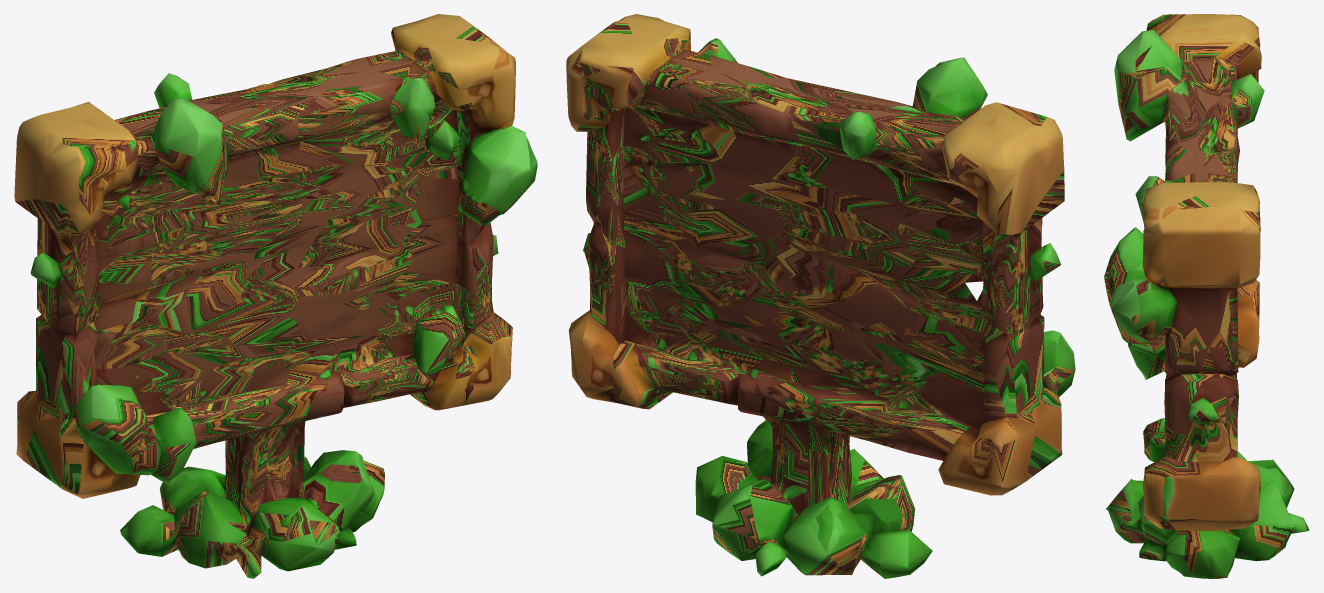
The model's file is emerald_sign_01.glb.
The picture shows the model from 3 angles, left to right: view 1: azimuth 30°, elevation 25°; view 2: azimuth 150°, elevation 25°; view 3: azimuth 270°, elevation 25°; orthographic projection. The views are drawn at different scales.
Parts seen in each view (by area): view 1: tripo_node_c9f61b99-062a-4082-879a-94b9305c6ced; view 2: tripo_node_c9f61b99-062a-4082-879a-94b9305c6ced; view 3: tripo_node_c9f61b99-062a-4082-879a-94b9305c6ced.
Boxes of the visible parts, box(x1,y1,x2,y2) form: tripo_node_c9f61b99-062a-4082-879a-94b9305c6ced: box(14, 14, 537, 578); tripo_node_c9f61b99-062a-4082-879a-94b9305c6ced: box(566, 14, 1075, 578); tripo_node_c9f61b99-062a-4082-879a-94b9305c6ced: box(1104, 14, 1309, 578).
Bounding box in the file's own units: 0.9835 × 0.9625 × 0.3965.
Materials: 1 (1 with a texture image).
